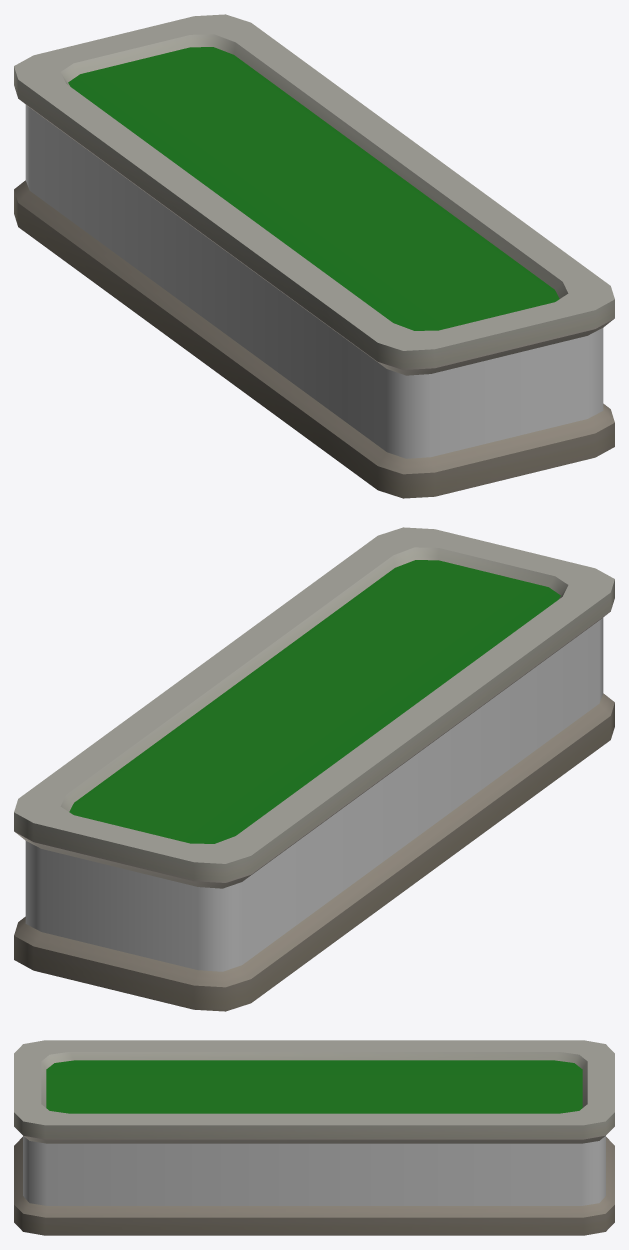
Rendered from FlowerPlacet_5_1_C.fbx.
3 renders of one model, top to bottom at view 1: azimuth 30°, elevation 25°; view 2: azimuth 150°, elevation 25°; view 3: azimuth 270°, elevation 25°, orthographic. The views are drawn at different scales.
Parts seen in each view (by area): view 1: FlowerPlacet_5_1_C; view 2: FlowerPlacet_5_1_C; view 3: FlowerPlacet_5_1_C.
Part boxes in pixels (x1,y1,x2,y2): FlowerPlacet_5_1_C: (14, 14, 614, 498); FlowerPlacet_5_1_C: (14, 527, 614, 1011); FlowerPlacet_5_1_C: (14, 1040, 614, 1235).
Bounding box in the file's own units: 143 × 86.38 × 426.
